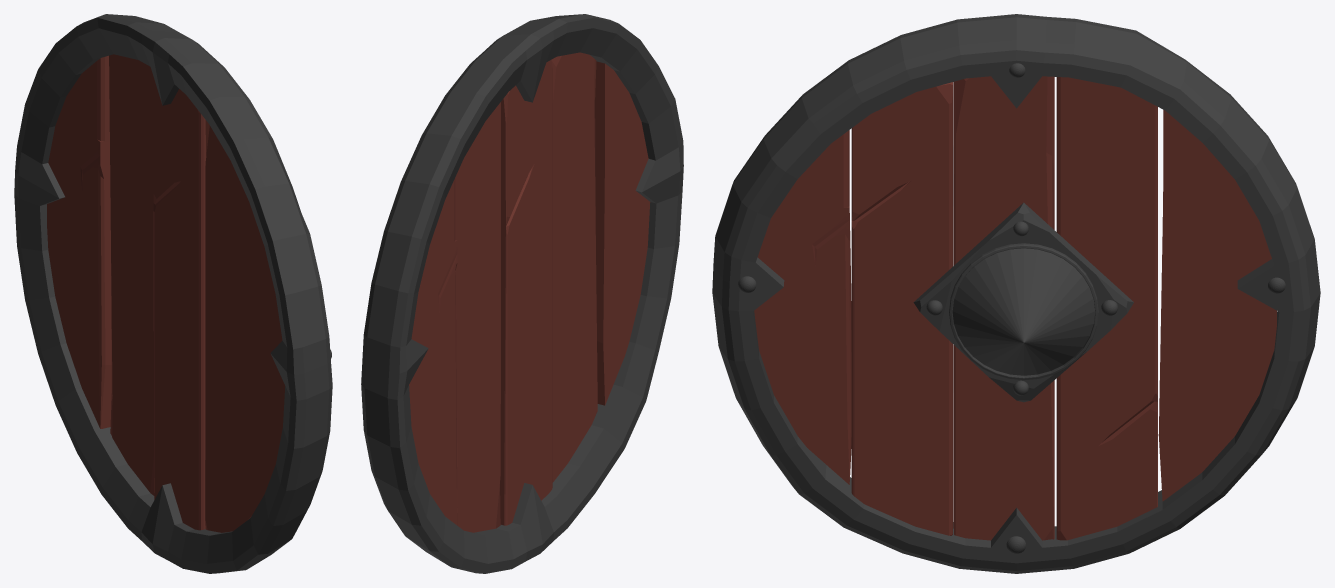
File: shield.fbx
3 renders of one model, left to right at view 1: azimuth 30°, elevation 25°; view 2: azimuth 150°, elevation 25°; view 3: azimuth 270°, elevation 25°, orthographic. The views are drawn at different scales.
Visible parts, largest first — view 1: Plane.004, Sphere.007; view 2: Plane.004, Sphere.007; view 3: Plane.004, Sphere.007.
Boxes of the visible parts, left/top/right/bottom form: Plane.004: left=47, top=54, right=285, bottom=532; Sphere.007: left=14, top=14, right=332, bottom=573; Plane.004: left=409, top=52, right=650, bottom=532; Sphere.007: left=361, top=14, right=683, bottom=573; Plane.004: left=754, top=76, right=1276, bottom=540; Sphere.007: left=712, top=14, right=1320, bottom=573.
Size of the model in its own units: 62.2 by 257 by 257.
